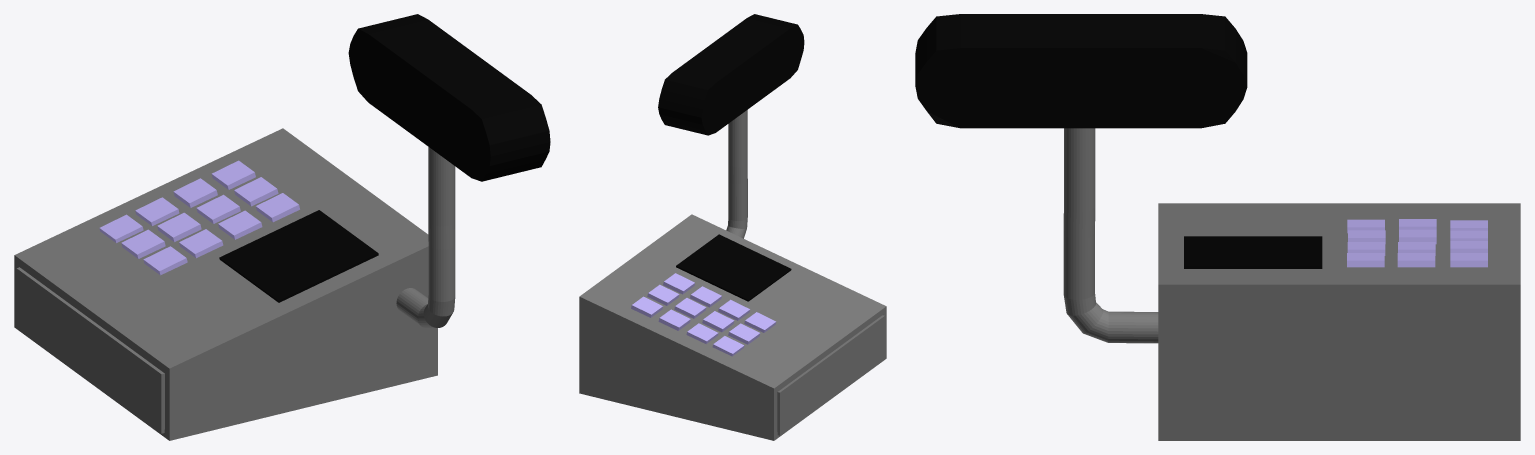
Rendered from Register.fbx.
3 views of the same model, side by side, from view 1: azimuth 30°, elevation 25°; view 2: azimuth 150°, elevation 25°; view 3: azimuth 270°, elevation 25° (orthographic). The views are drawn at different scales.
Parts seen in each view (by area): view 1: 本体.001, 本体.015, 引き出し, 本体.014, 本体.017, 本体.005, 本体.009, 本体.003, 本体.004, 本体.012, 本体.002, 本体.006 (+5 smaller); view 2: 本体.001, 本体.015, 引き出し, 本体.014, 本体.017, 本体.009, 本体.005, 本体.003, 本体.012, 本体.004, 本体.002, 本体.007 (+5 smaller); view 3: 本体.001, 本体.015, 本体.017, 本体.014, 本体.003.
Part boxes in pixels (x1,y1,x2,y2): 本体.001: (14,128,437,440); 本体.015: (348,14,550,181); 引き出し: (16,267,164,433); 本体.014: (219,210,378,302); 本体.017: (396,147,455,328); 本体.005: (173,178,217,207); 本体.009: (157,212,201,241); 本体.003: (234,177,278,206); 本体.004: (255,193,299,222); 本体.012: (121,229,165,258); 本体.002: (211,160,255,189); 本体.006: (196,194,240,223); 本体.001: (579,214,886,440); 本体.015: (658,14,804,135); 引き出し: (777,315,884,435); 本体.014: (676,234,791,301); 本体.017: (726,110,747,238); 本体.009: (702,311,734,332); 本体.005: (658,309,690,330); 本体.003: (647,284,679,305); 本体.012: (728,323,760,344); 本体.004: (663,273,694,294); 本体.002: (631,296,662,317); 本体.007: (690,286,721,307); 本体.001: (1158,203,1520,440); 本体.015: (915,14,1247,128); 本体.017: (1063,128,1158,343); 本体.014: (1184,236,1322,268); 本体.003: (1397,253,1435,267).
Bounding box in the file's own units: 209 × 242 × 334.
